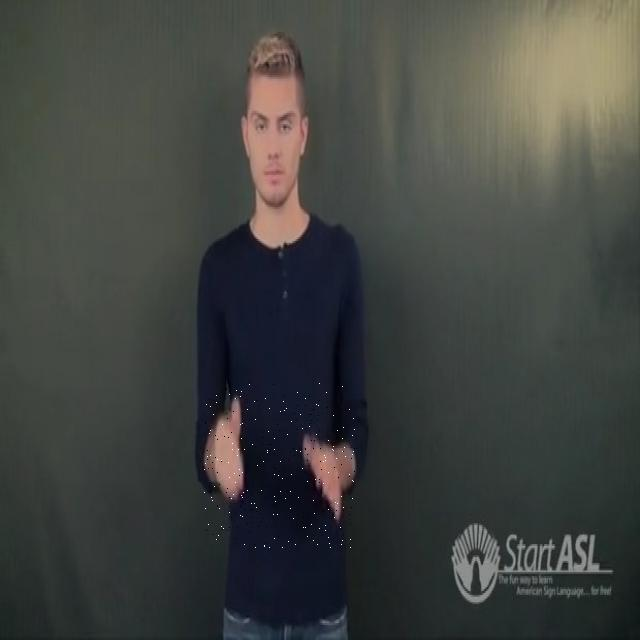manager: (203, 382, 355, 548)
